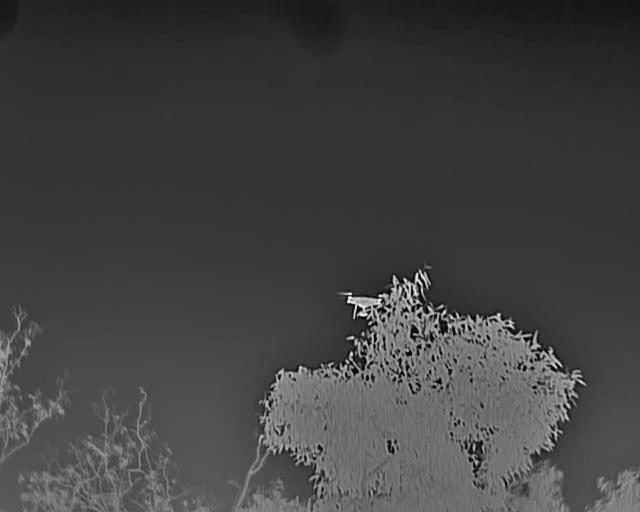DJI-Phantom: (337, 288, 393, 325)
